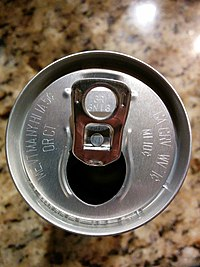can: (4, 46, 196, 240)
